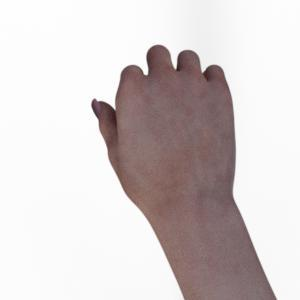rock: (92, 46, 276, 300)
